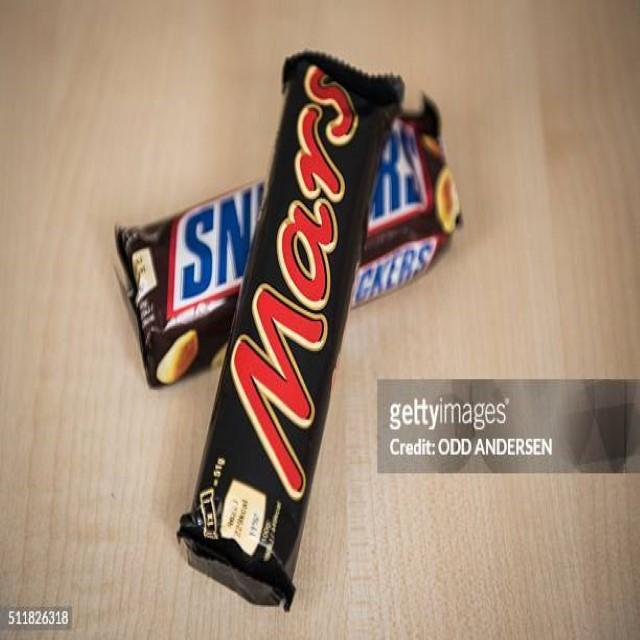mars_chocolate: (175, 47, 405, 613)
snickers_chocolate: (95, 107, 468, 398)
